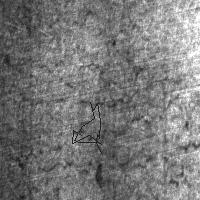crazing: (17, 58, 177, 161), (72, 102, 101, 153)
